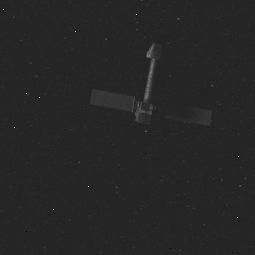xmm_newton: (92, 40, 209, 130)
